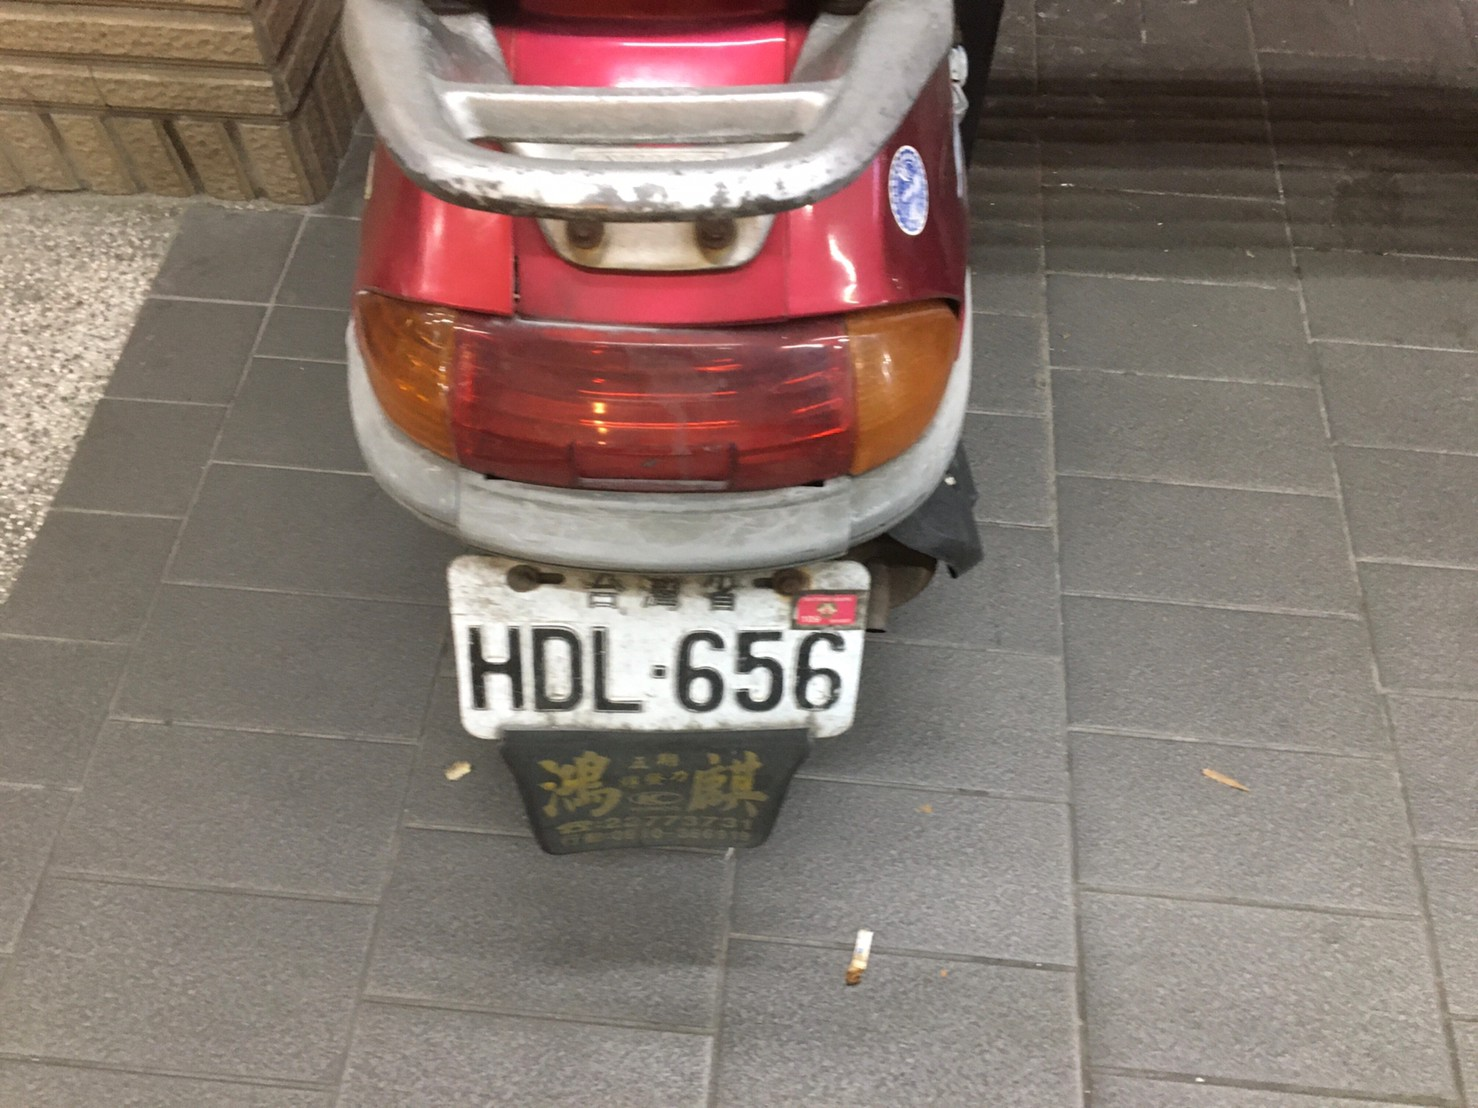LP: (437, 543, 866, 746)
